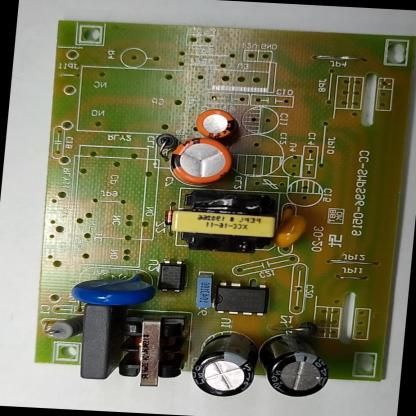Cap1: (166, 132, 238, 190)
Cap2: (192, 106, 242, 144)
Cap3: (186, 328, 264, 401)
Cap4: (250, 328, 337, 402)
MOSFET: (209, 277, 276, 320)
Mov: (66, 266, 160, 310)
Resistor: (44, 310, 90, 344)
Transformer: (164, 186, 284, 258), (110, 308, 193, 392)
